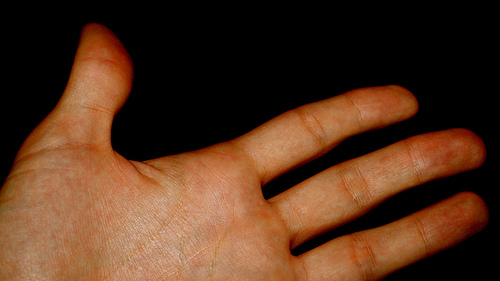palm: (20, 148, 301, 280)
